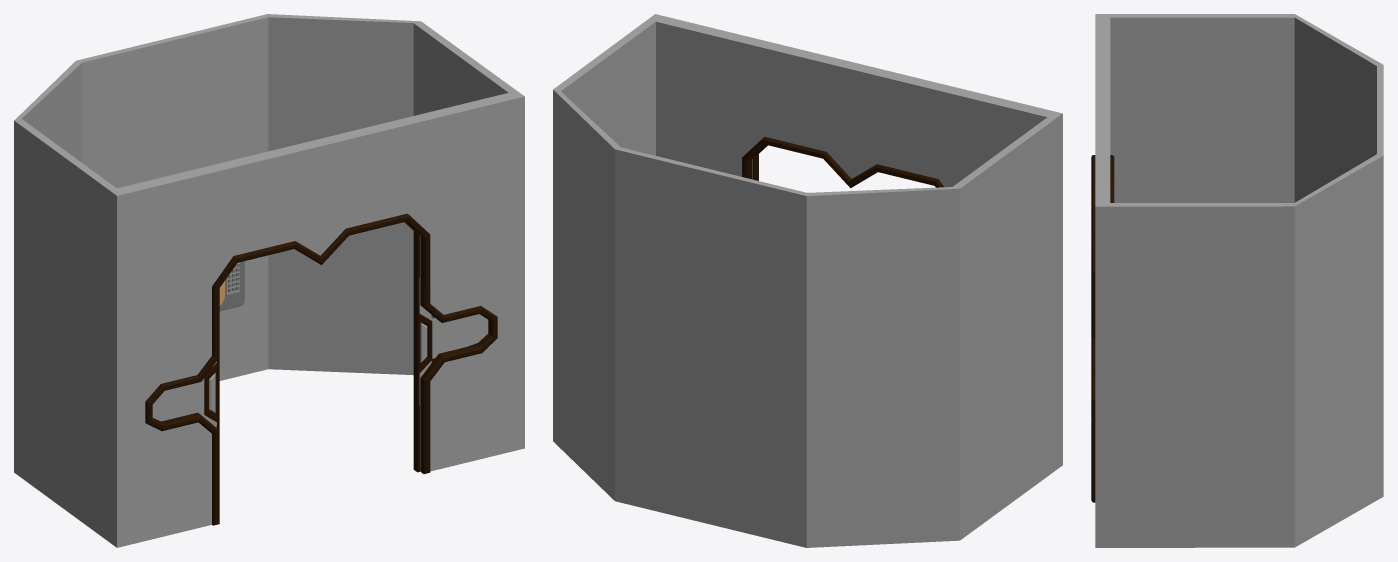
Rendered from Lost Robot Elevator.fbx.
The picture shows the model from 3 angles, left to right: view 1: azimuth 30°, elevation 25°; view 2: azimuth 150°, elevation 25°; view 3: azimuth 270°, elevation 25°; orthographic projection. The views are drawn at different scales.
Parts seen in each view (by area): view 1: Elevator; view 2: Elevator; view 3: Elevator.
Part boxes in pixels (x1,y1,x2,y2): Elevator: [14, 14, 524, 547]; Elevator: [553, 14, 1062, 547]; Elevator: [1091, 14, 1383, 547].
Bounding box in the file's own units: 9.99 × 8.24 × 6.4.
